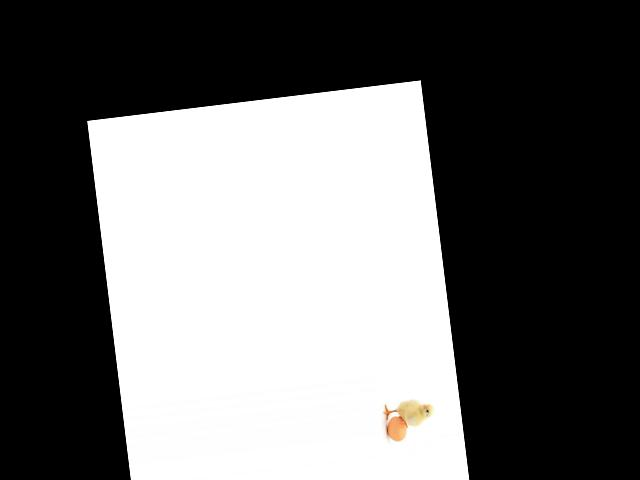egg: (385, 414, 408, 442)
